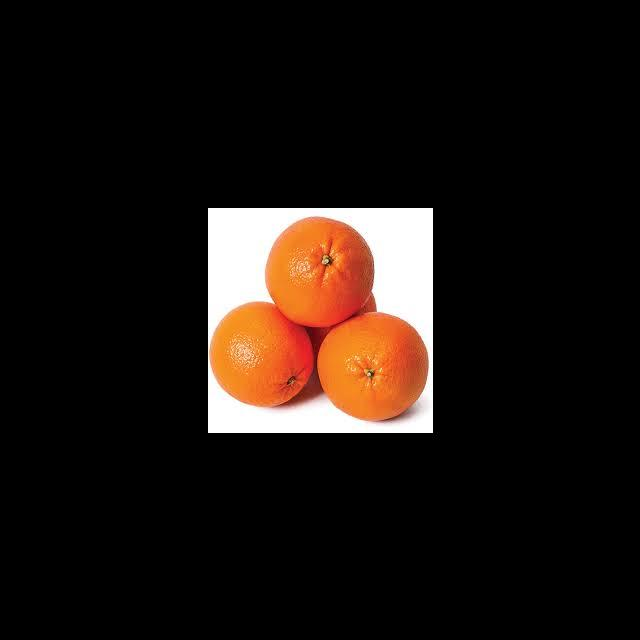orange: (260, 212, 381, 329), (191, 298, 313, 412), (313, 311, 435, 420), (276, 274, 390, 362)
